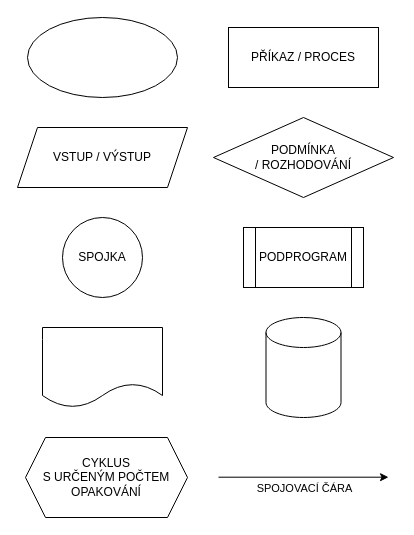
The diagram is 414 pixels wide and 535 high, and some of its shapes have lost their labels. Here are the shapes that lost their labels. From the top down, the centre of each, then its label:
pixel 102 57: ZAČÁTEK / KONEC
pixel 102 367: DOKUMENT
pixel 303 367: PRÁCE S DATABÁZÍ
